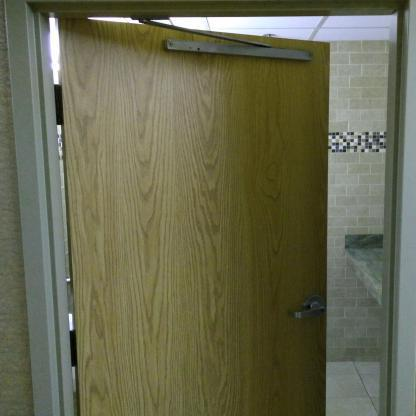door: (31, 13, 337, 415)
hinged: (51, 84, 67, 124), (68, 330, 83, 368)
lever: (289, 303, 327, 325)
